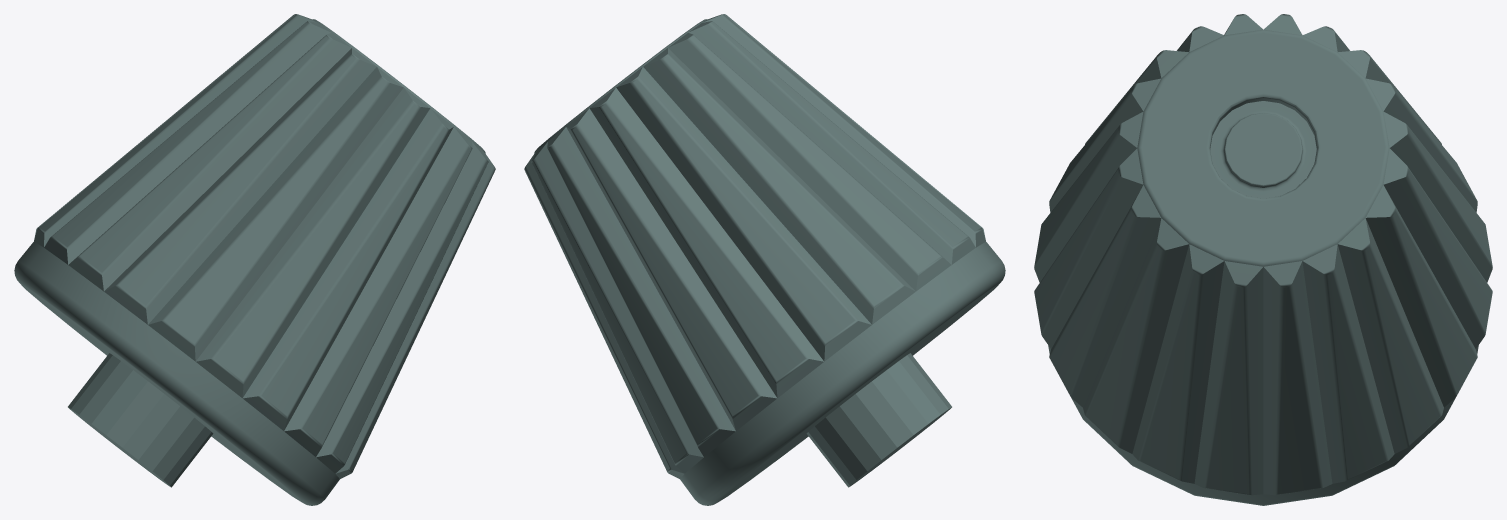
Rendered from rotaryswitch.fbx.
3 views of the same model, side by side, from view 1: azimuth 30°, elevation 25°; view 2: azimuth 150°, elevation 25°; view 3: azimuth 270°, elevation 25° (orthographic). The views are drawn at different scales.
Visible parts, largest first — view 1: pCylinder19; view 2: pCylinder19; view 3: pCylinder19.
Part boxes in pixels (x1,y1,x2,y2): pCylinder19: [14, 14, 495, 505]; pCylinder19: [524, 14, 1005, 505]; pCylinder19: [1034, 14, 1492, 505].
Size of the model in its own units: 1.46 by 1.46 by 1.18.
